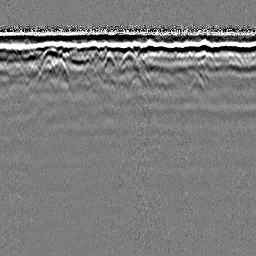cavity: (117, 50, 140, 72)
